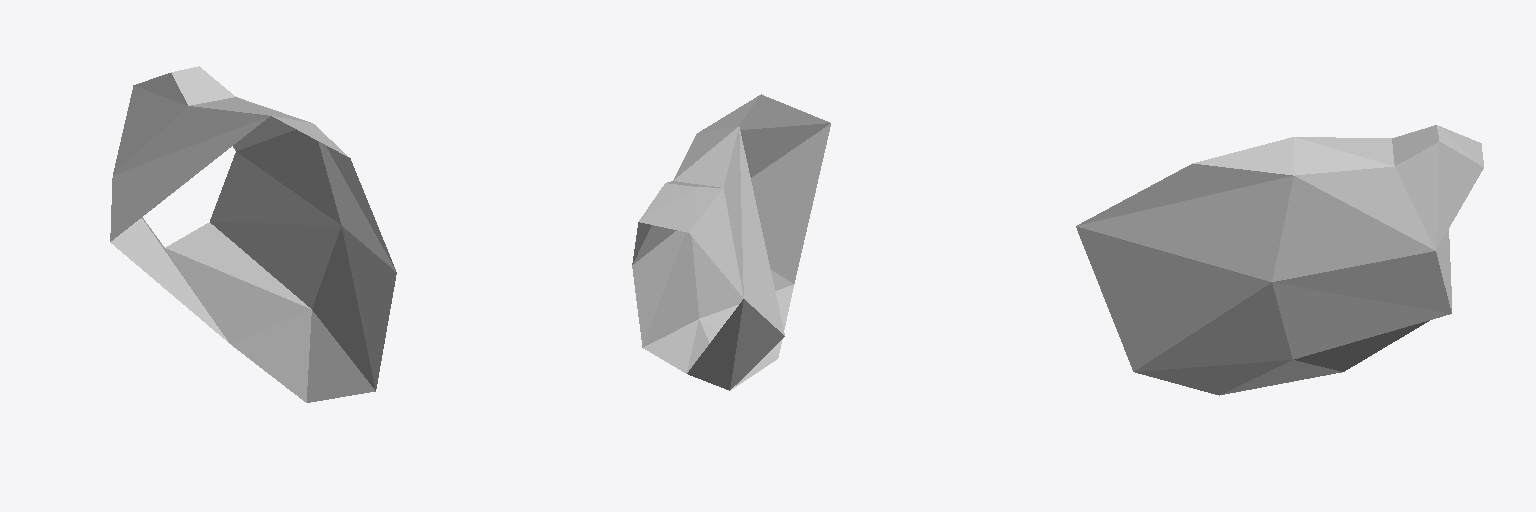
The model's file is patte_av_g_1.obj.
3 renders of one model, left to right at view 1: azimuth 30°, elevation 25°; view 2: azimuth 150°, elevation 25°; view 3: azimuth 270°, elevation 25°, orthographic.
Parts seen in each view (by area): view 1: patte_av_g_1_Wolf.011; view 2: patte_av_g_1_Wolf.011; view 3: patte_av_g_1_Wolf.011.
Part boxes in pixels (x1,y1,x2,y2): patte_av_g_1_Wolf.011: (110,66,396,402); patte_av_g_1_Wolf.011: (632,94,830,390); patte_av_g_1_Wolf.011: (1076,125,1483,395).
Size of the model in its own units: 9.92 by 15.08 by 21.52.